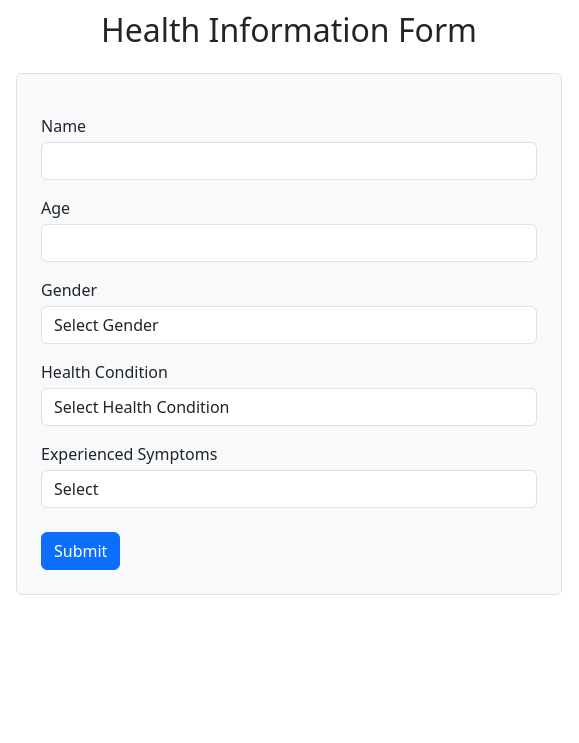
Test: MyForm Component › validates form for healthy status with symptoms where symptoms is not filled
This screenshot has width=579, height=743.
Type "John Doe" into the field labelled "Name" at (289, 161), box [41,142,537,180]
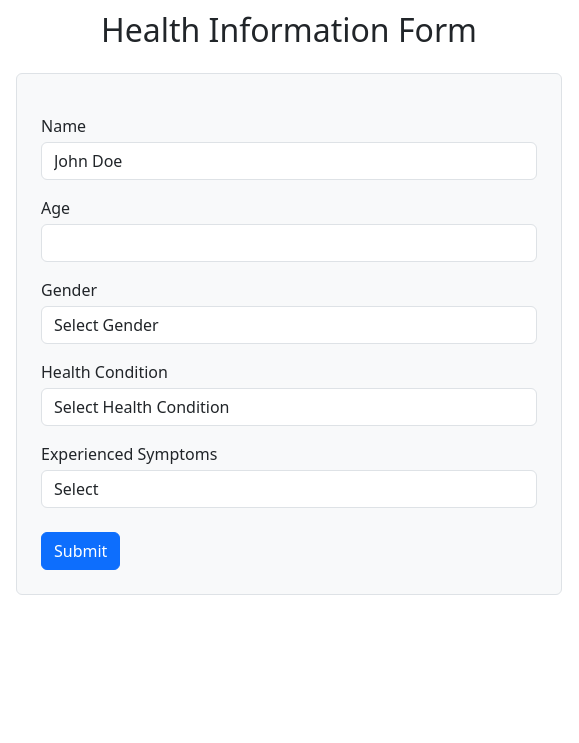
Type "30" into the number field labelled "Age" at (289, 243), box [41,224,537,262]
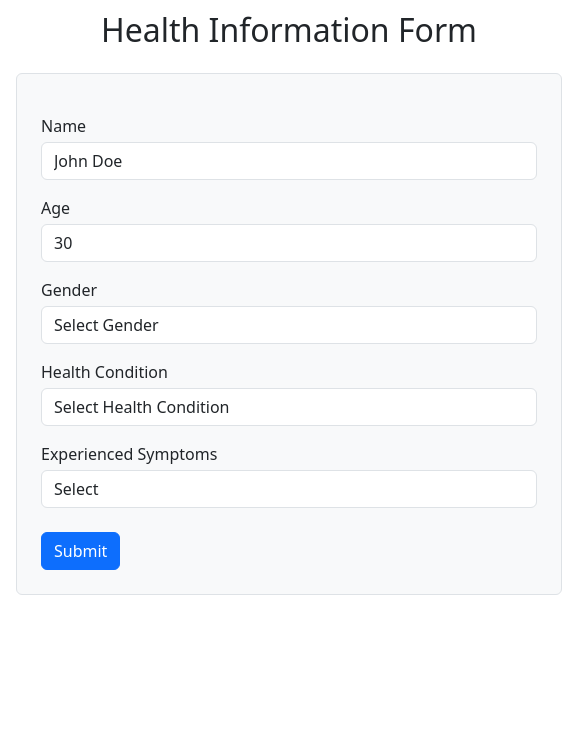
Select "Male" in the dropdown labelled "Gender" at (289, 325), box [41,306,537,344]
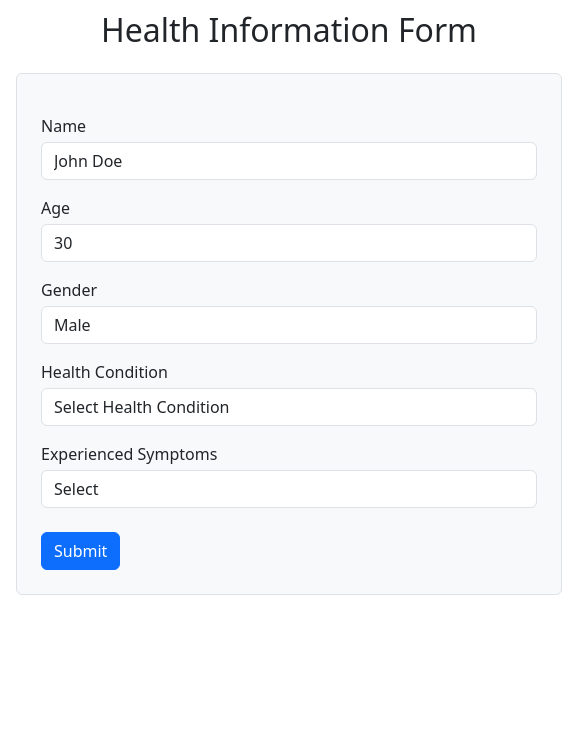
Select "Healthy" in the dropdown labelled "Health Condition" at (289, 407), box [41,388,537,426]
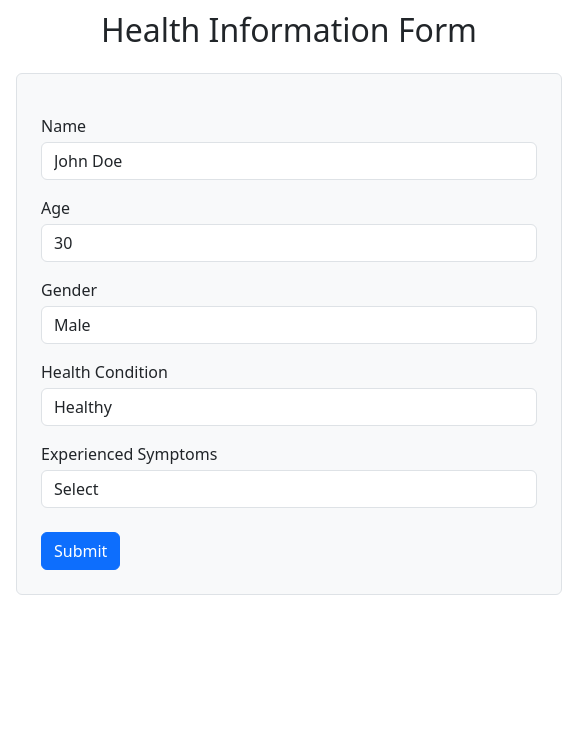
Select "Yes" in the dropdown labelled "Experienced Symptoms" at (289, 489), box [41,470,537,508]
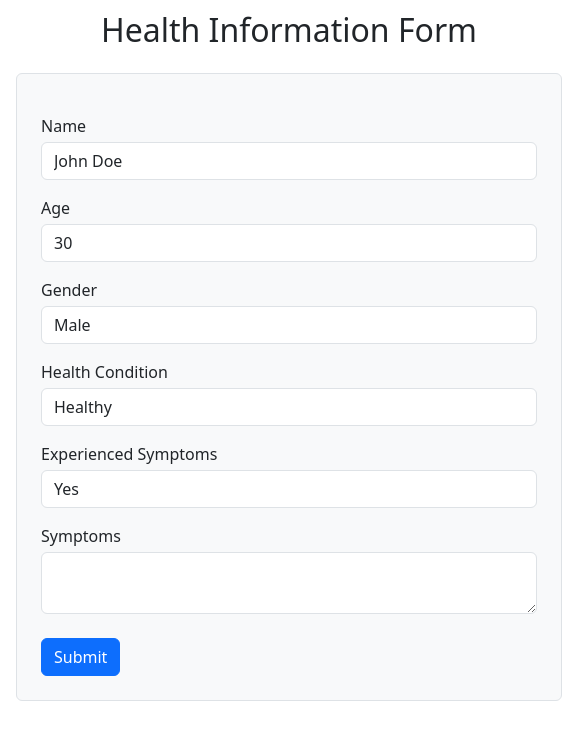
Click the button "Submit" at (81, 657), box [41,638,120,676]
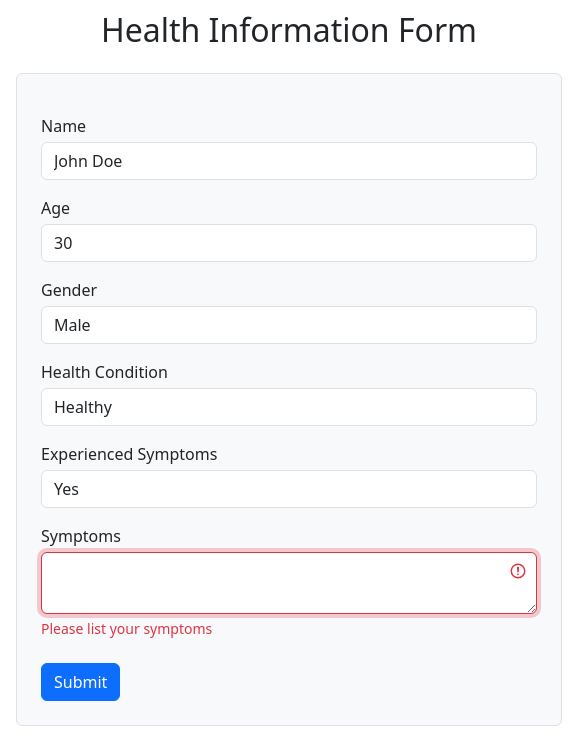
Expected: the text "Please list your symptoms" is shown, [41,619,212,638]
